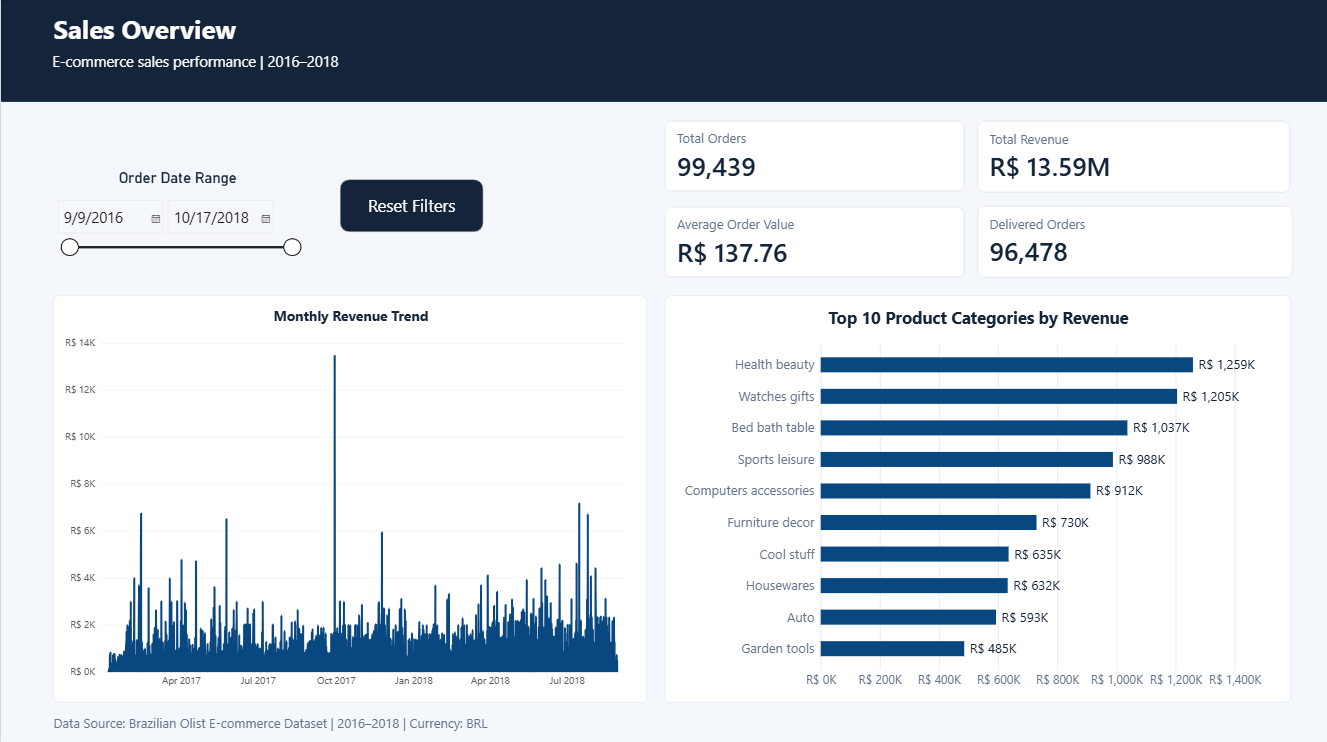

The page's visual inventory and layout, read from the dashboard file:
{"tool":"powerbi","page":{"name":"Sales Overview ","canvas":[1920,1080],"ordinal":0},"visuals":[{"type":"shape","box":[0,0,1920.4,150.7],"z":0},{"type":"cardVisual","fields":{"Data":["olist_order_items_dataset.Total Revenue"]},"box":[1413.5,177.2,453.3,105.1],"z":1000},{"type":"cardVisual","fields":{"Data":["olist_order_items_dataset.Average Order Value"]},"box":[960.2,302.9,434.8,103],"z":2000},{"type":"cardVisual","fields":{"Data":["olist_order_items_dataset.Delivered Orders"]},"box":[1413.5,300.8,457.4,105.1],"z":3000},{"type":"cardVisual","fields":{"Data":["olist_orders_dataset.Total Orders"]},"box":[960.2,177.2,434.8,103],"z":4000},{"type":"lineChart","title":"Monthly Revenue Trend","fields":{"Category":["olist_orders_dataset.order_purchase_timestamp"],"Y":["olist_order_items_dataset.Total Revenue"]},"box":[76.2,430.7,859.2,589.3],"z":5000},{"type":"clusteredBarChart","title":"Top 10 Product Categories by Revenue","fields":{"Category":["olist_products_dataset.Clean Category"],"Y":["olist_order_items_dataset.Total Revenue"]},"box":[960.2,430.7,906.6,589.3],"z":6000},{"type":"textbox","box":[1732,27,150,150],"z":7000},{"type":"textbox","box":[99.5,99.5,300.4,47.1],"z":8000},{"type":"textbox","box":[73.5,75.3,1179.8,47.8],"z":9000},{"type":"textbox","box":[75.3,20.2,858.2,57],"z":10000},{"type":"textbox","box":[76,1036.9,684.1,43.4],"z":11000},{"type":"slicer","title":"Order Date Range","fields":{"Values":["olist_orders_dataset.order_purchase_timestamp"]},"box":[74.2,247.9,363.4,138],"z":13000},{"type":"actionButton","box":[490.9,263,208.2,76.7],"z":14000}]}

Visuals, with their boxes in screenshot pixels (x1, y1, x2, y2), scaled from the page's 1920x1080 canvas onto the 1327x742 screenshot:
shape: {"x1": 0, "y1": 0, "x2": 1326, "y2": 104}
cardVisual - olist_order_items_dataset.Total Revenue: {"x1": 977, "y1": 122, "x2": 1290, "y2": 194}
cardVisual - olist_order_items_dataset.Average Order Value: {"x1": 664, "y1": 208, "x2": 964, "y2": 279}
cardVisual - olist_order_items_dataset.Delivered Orders: {"x1": 977, "y1": 207, "x2": 1293, "y2": 279}
cardVisual - olist_orders_dataset.Total Orders: {"x1": 664, "y1": 122, "x2": 964, "y2": 193}
"Monthly Revenue Trend" lineChart: {"x1": 53, "y1": 296, "x2": 646, "y2": 701}
"Top 10 Product Categories by Revenue" clusteredBarChart: {"x1": 664, "y1": 296, "x2": 1290, "y2": 701}
textbox: {"x1": 1197, "y1": 19, "x2": 1301, "y2": 122}
textbox: {"x1": 69, "y1": 68, "x2": 276, "y2": 101}
textbox: {"x1": 51, "y1": 52, "x2": 866, "y2": 85}
textbox: {"x1": 52, "y1": 14, "x2": 645, "y2": 53}
textbox: {"x1": 53, "y1": 712, "x2": 525, "y2": 741}
"Order Date Range" slicer: {"x1": 51, "y1": 170, "x2": 302, "y2": 265}
actionButton: {"x1": 339, "y1": 181, "x2": 483, "y2": 233}
